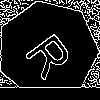R: (22, 25, 82, 82)
